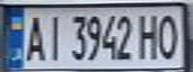2: (115, 11, 136, 61)
3: (66, 11, 87, 61)
4: (100, 11, 121, 61)
9: (84, 11, 103, 61)
A: (21, 11, 48, 63)
H: (136, 10, 163, 61)
I: (42, 11, 66, 62)
O: (154, 10, 184, 61)
